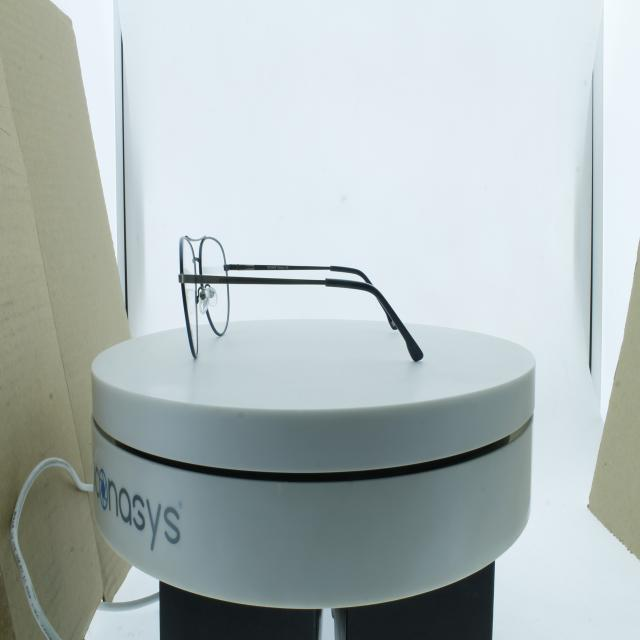Specs: (157, 198, 440, 393)
